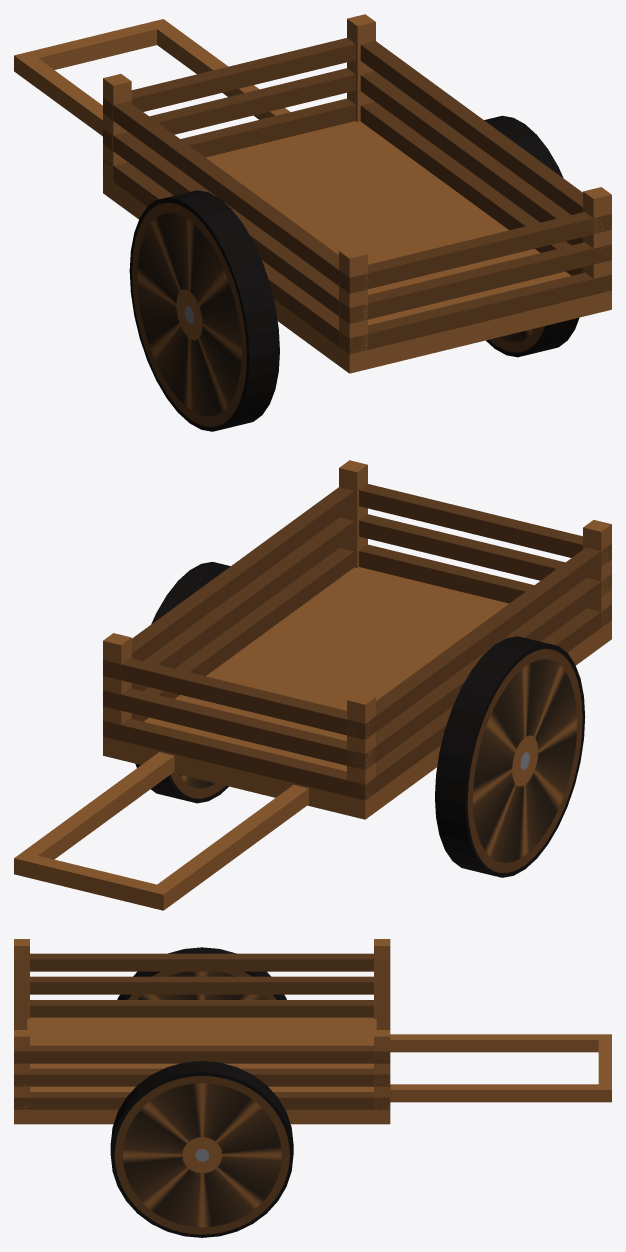
The model's file is holzwagen_t2_blur.fbx.
3 views of the same model, one above another, from view 1: azimuth 30°, elevation 25°; view 2: azimuth 150°, elevation 25°; view 3: azimuth 270°, elevation 25° (orthographic). The views are drawn at different scales.
Visible parts, largest first — view 1: Holzwagen_T2_blur; view 2: Holzwagen_T2_blur; view 3: Holzwagen_T2_blur.
Part boxes in pixels (bbox=[...]): Holzwagen_T2_blur: bbox=[14, 14, 611, 431]; Holzwagen_T2_blur: bbox=[14, 460, 611, 910]; Holzwagen_T2_blur: bbox=[14, 939, 611, 1237].
Size of the model in its own units: 110 by 77 by 222.
